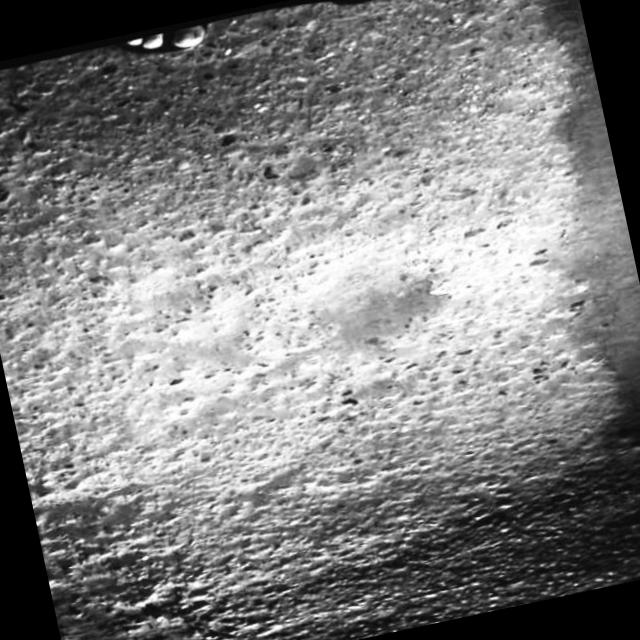Pothole: (296, 228, 462, 383), (121, 614, 238, 640)
